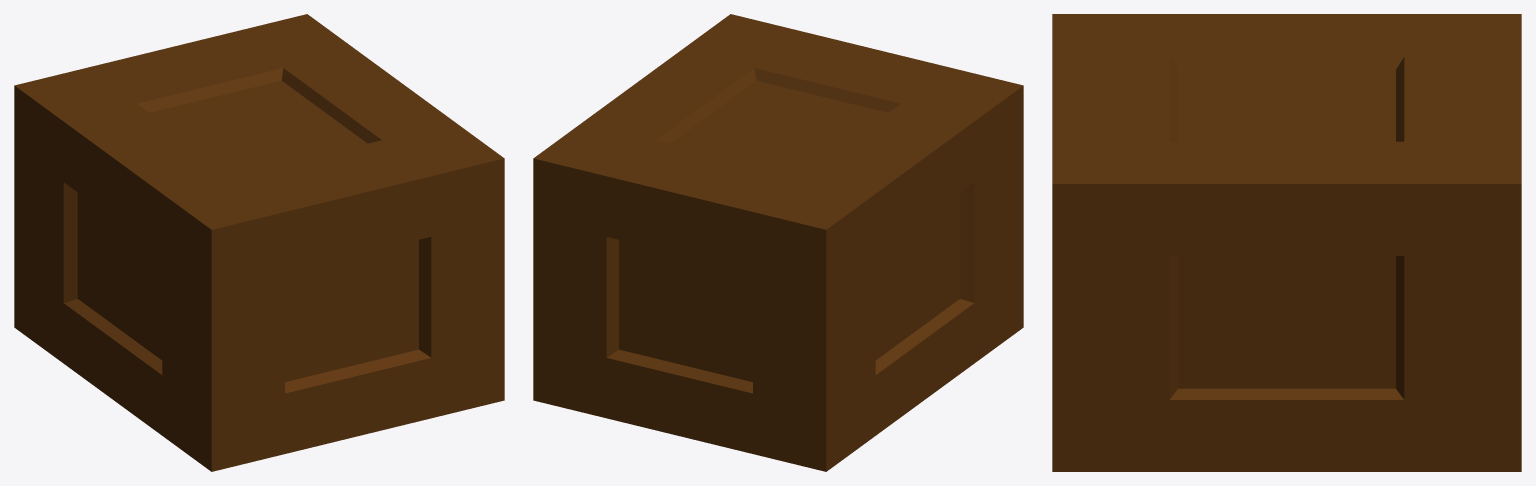
The picture shows the model from 3 angles, left to right: view 1: azimuth 30°, elevation 25°; view 2: azimuth 150°, elevation 25°; view 3: azimuth 270°, elevation 25°; orthographic projection. The views are drawn at different scales.
Parts seen in each view (by area): view 1: Cube; view 2: Cube; view 3: Cube.
Boxes of the visible parts, x1,y1,x2,y2 form: Cube: (14,14,504,471); Cube: (533,14,1023,471); Cube: (1052,14,1521,471).
Bounding box in the file's own units: 171 × 135 × 200.
